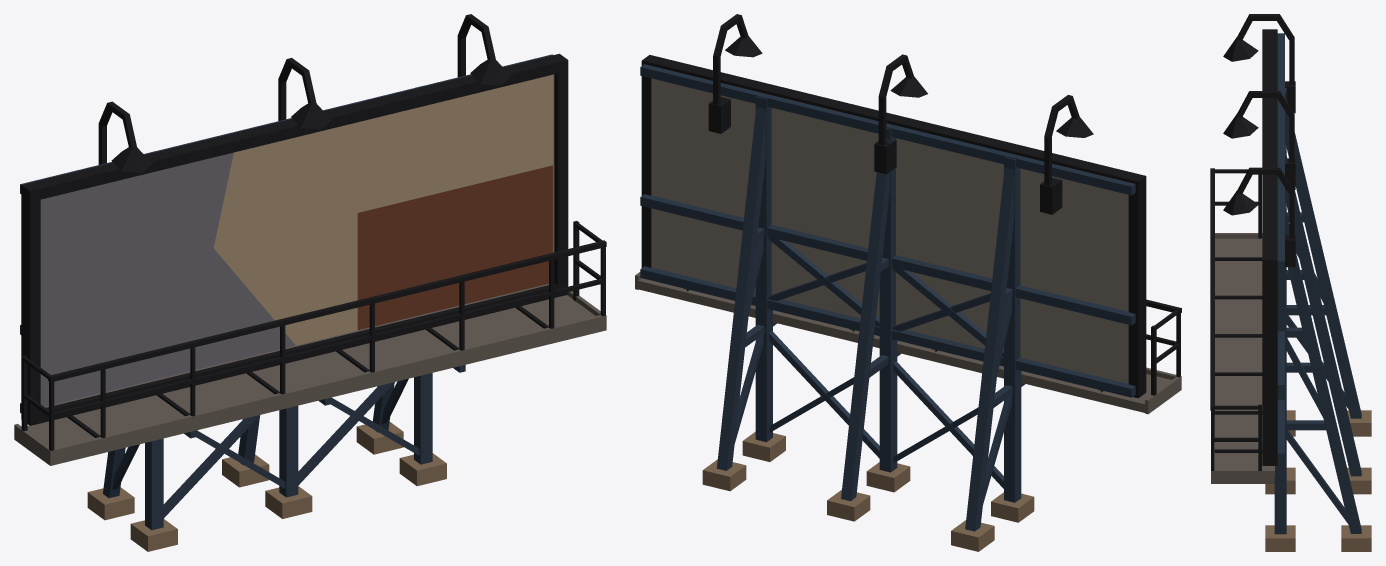
File: rooftop-billboard-48a23e.glb
The picture shows the model from 3 angles, left to right: view 1: azimuth 30°, elevation 25°; view 2: azimuth 150°, elevation 25°; view 3: azimuth 270°, elevation 25°; orthographic projection. The views are drawn at different scales.
Visible parts, largest first — view 1: billboard-body; view 2: billboard-body; view 3: billboard-body.
Boxes of the visible parts, bbox=[...] form: billboard-body: bbox=[14, 14, 606, 551]; billboard-body: bbox=[635, 14, 1181, 551]; billboard-body: bbox=[1210, 14, 1371, 551].
Size of the model in its own units: 7.44 by 5.77 by 2.12.
